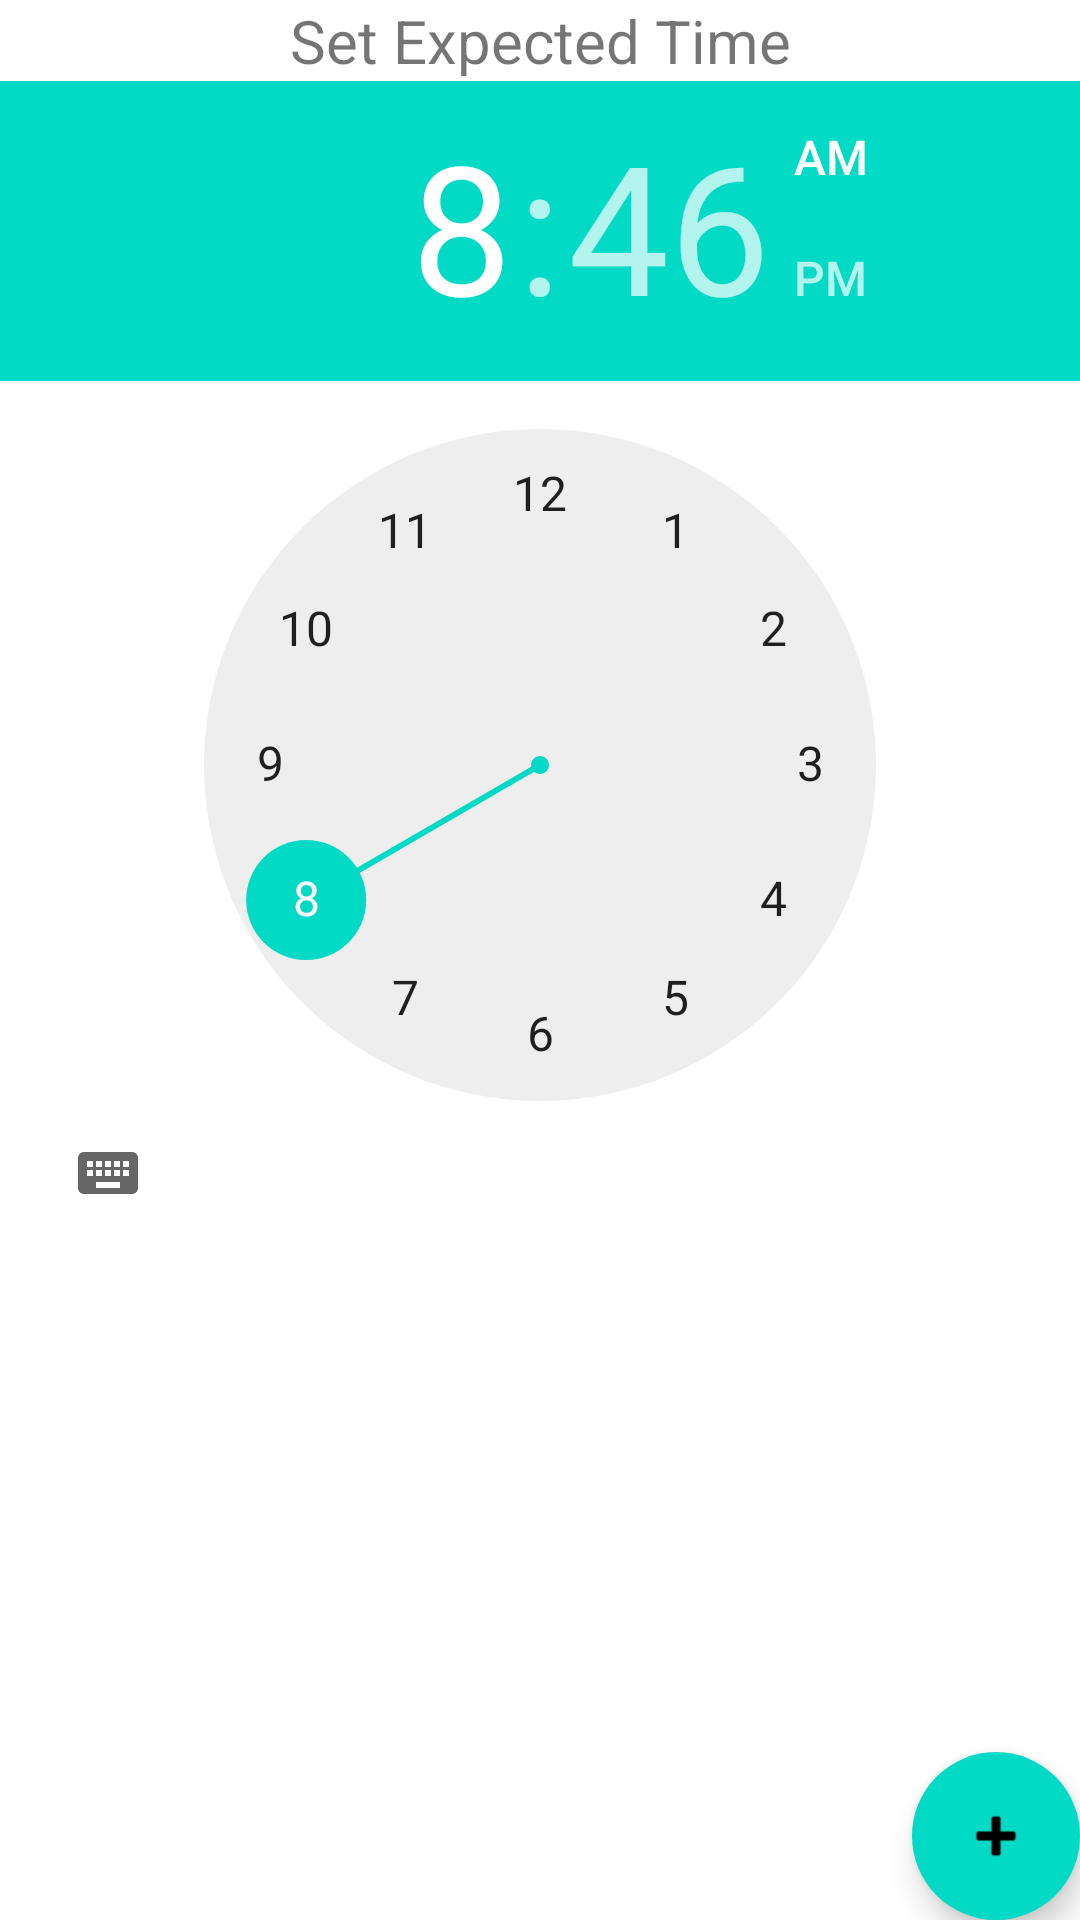

Icon bounding boxes for this 1080*1920 phone screenshot, format (x1, y1, x2, y2):
add: (912, 1752, 1080, 1920)
